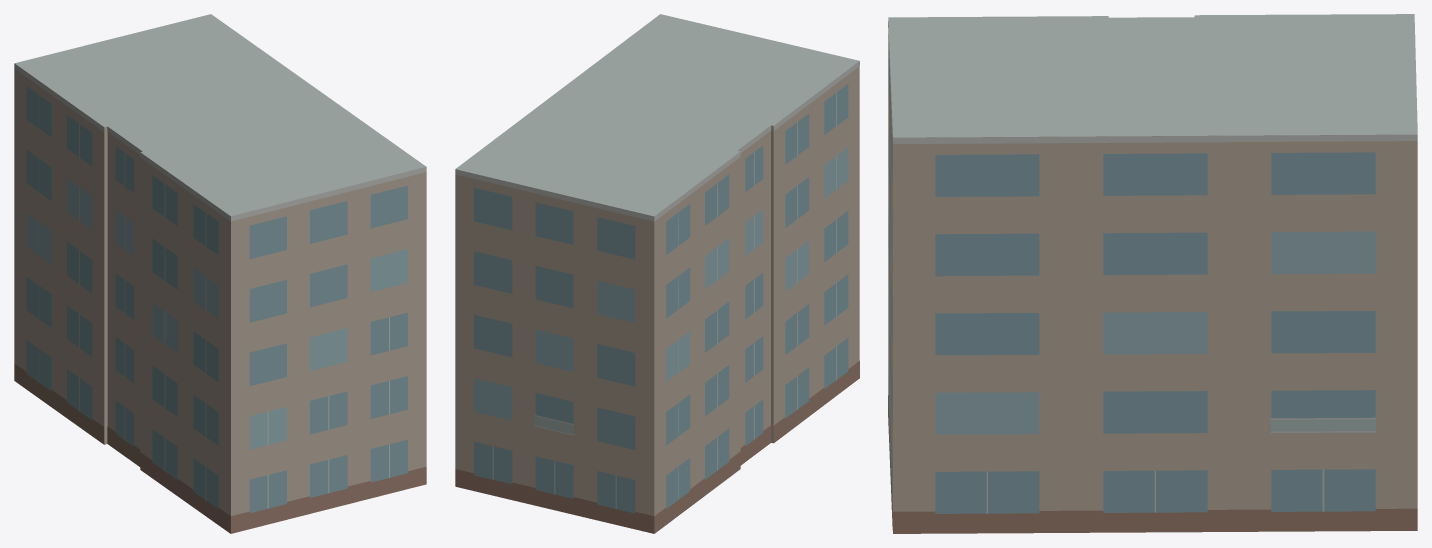
The model's file is survey-upis-32941190.glb.
3 views of the same model, side by side, from view 1: azimuth 30°, elevation 25°; view 2: azimuth 150°, elevation 25°; view 3: azimuth 270°, elevation 25° (orthographic). The views are drawn at different scales.
Visible parts, largest first — view 1: survey-upis-32941190.tmp; view 2: survey-upis-32941190.tmp; view 3: survey-upis-32941190.tmp.
Boxes of the visible parts, x1=… form: survey-upis-32941190.tmp: x1=14, y1=14, x2=426, y2=533; survey-upis-32941190.tmp: x1=455, y1=14, x2=859, y2=533; survey-upis-32941190.tmp: x1=888, y1=14, x2=1417, y2=533.
Bounding box in the file's own units: 9.98 × 14.9 × 18.06.
